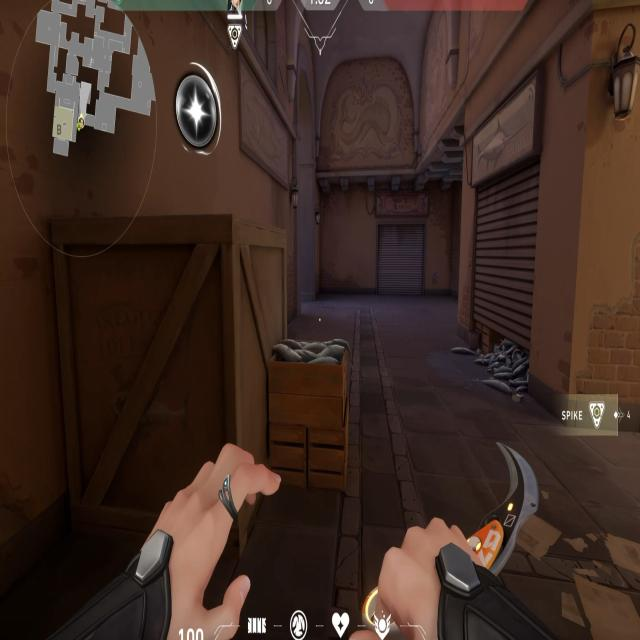B_Main_Corner: (459, 140, 541, 377)
B_Main_Wallbang: (0, 60, 253, 598)
